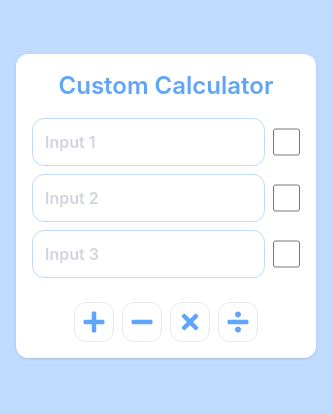
Test: Home › operator add › shows correct result when input 1 2 3 is filled and add is clicked
Type "1" into the number field with placeholder "Input 1" at [148, 142], box [32, 118, 265, 166]
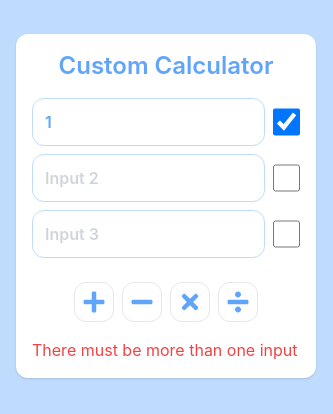
Type "2" into the number field with placeholder "Input 2" at [148, 178], box [32, 154, 265, 202]
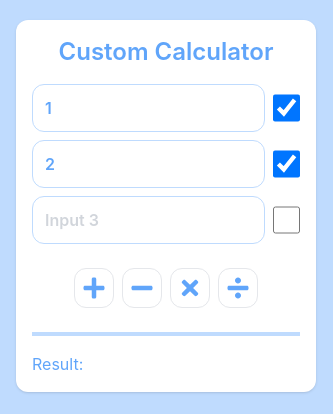
Type "3" into the number field with placeholder "Input 3" at [148, 220], box [32, 196, 265, 244]
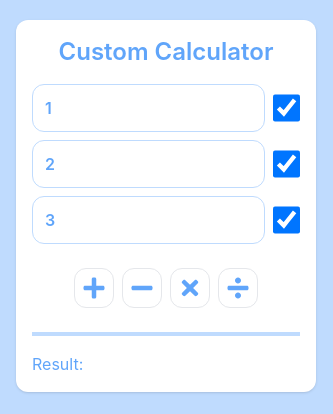
Click the icon with test id "add" at [94, 288], box [82, 276, 106, 300]
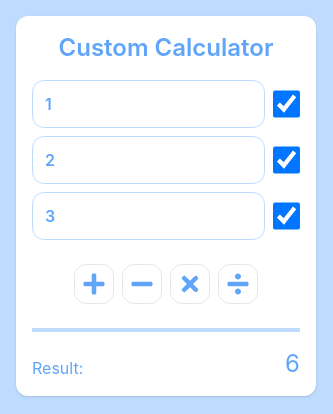
Expected: the text "Result:" is shown, [32, 356, 83, 380]
Expected: the text "6" is shown, [285, 348, 300, 380]
